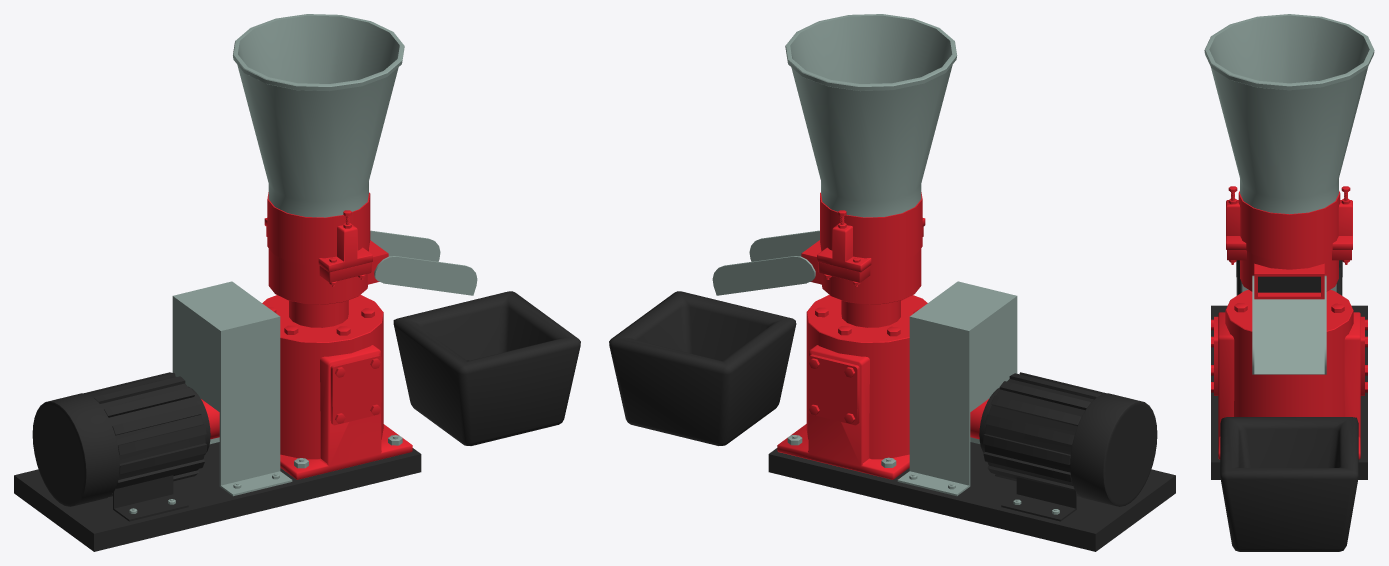
Rendered from Peletizadora.fbx.
3 renders of one model, left to right at view 1: azimuth 30°, elevation 25°; view 2: azimuth 150°, elevation 25°; view 3: azimuth 270°, elevation 25°, orthographic.
Visible parts, largest first — view 1: EntradaPeletizadora, Cube.001, UnionPeletizadora, PeletizadoraAtras, CentroPeletizadora, Cube, AbajoPeletizadora, SalidaPeletizadora, TornillosPeletizadora; view 2: EntradaPeletizadora, Cube.001, UnionPeletizadora, PeletizadoraAtras, CentroPeletizadora, Cube, AbajoPeletizadora, SalidaPeletizadora, TornillosPeletizadora; view 3: EntradaPeletizadora, Cube.001, CentroPeletizadora, SalidaPeletizadora, AbajoPeletizadora, Cube, TornillosPeletizadora, PeletizadoraAtras.
Boxes of the visible parts, left/top/right/bottom form: EntradaPeletizadora: left=233, top=14, right=404, bottom=217; Cube.001: left=393, top=291, right=580, bottom=445; UnionPeletizadora: left=113, top=281, right=292, bottom=521; PeletizadoraAtras: left=32, top=372, right=219, bottom=506; CentroPeletizadora: left=262, top=192, right=383, bottom=459; Cube: left=14, top=442, right=421, bottom=551; AbajoPeletizadora: left=264, top=218, right=412, bottom=479; SalidaPeletizadora: left=367, top=230, right=477, bottom=295; TornillosPeletizadora: left=129, top=210, right=402, bottom=513; EntradaPeletizadora: left=785, top=14, right=957, bottom=217; Cube.001: left=609, top=291, right=796, bottom=445; UnionPeletizadora: left=897, top=281, right=1076, bottom=521; PeletizadoraAtras: left=970, top=372, right=1157, bottom=506; CentroPeletizadora: left=806, top=192, right=927, bottom=459; Cube: left=768, top=442, right=1175, bottom=551; AbajoPeletizadora: left=777, top=218, right=925, bottom=479; SalidaPeletizadora: left=712, top=230, right=822, bottom=295; TornillosPeletizadora: left=787, top=210, right=1059, bottom=514; EntradaPeletizadora: left=1204, top=14, right=1374, bottom=214; Cube.001: left=1220, top=417, right=1358, bottom=551; CentroPeletizadora: left=1225, top=191, right=1353, bottom=416; SalidaPeletizadora: left=1252, top=263, right=1326, bottom=374; AbajoPeletizadora: left=1214, top=200, right=1364, bottom=459; Cube: left=1211, top=305, right=1367, bottom=479; TornillosPeletizadora: left=1211, top=186, right=1367, bottom=392; PeletizadoraAtras: left=1236, top=260, right=1342, bottom=295.
Size of the model in its own units: 1129 by 891 by 343.
